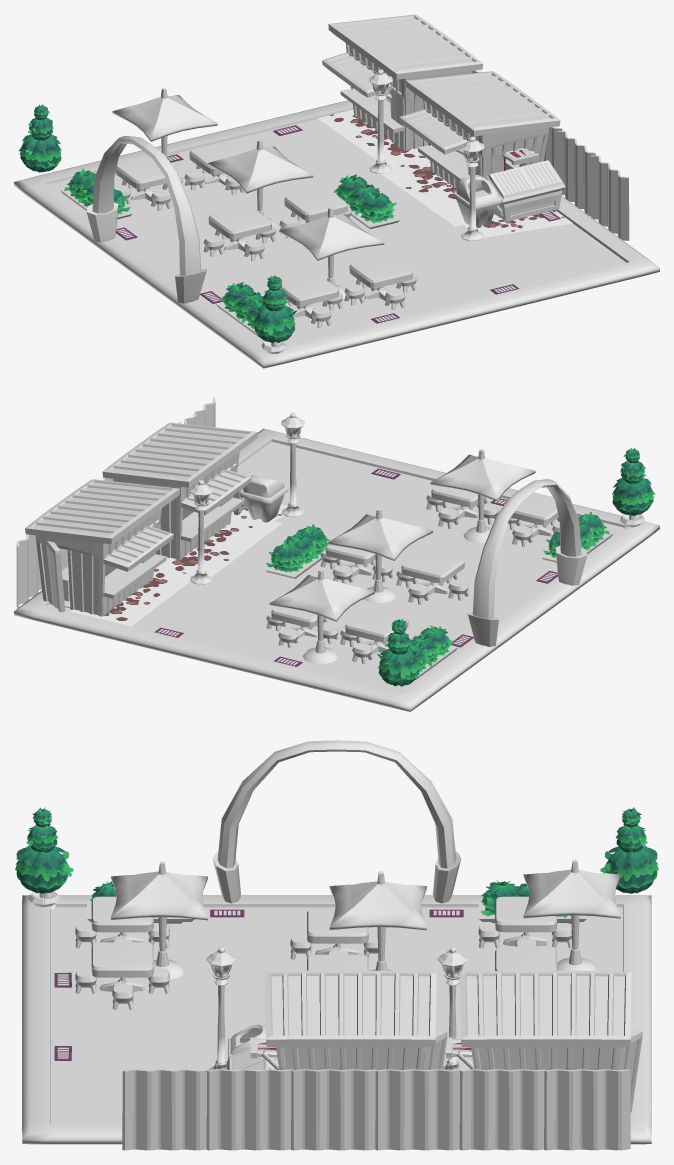
The model's file is Model_Canteen.fbx.
The picture shows the model from 3 angles, top to bottom: view 1: azimuth 30°, elevation 25°; view 2: azimuth 150°, elevation 25°; view 3: azimuth 270°, elevation 25°; orthographic projection. The views are drawn at different scales.
Visible parts, largest first — view 1: Plane.017, Cylinder.018, TEX_DEKOR.004, Cube.040, Plane.008, Sphere.006, Cube.007, Cylinder.008, Cylinder.007, Cylinder.010, Cylinder.006, Cylinder.004 (+9 smaller); view 2: Plane.017, Cylinder.018, Cube.040, TEX_DEKOR.004, Sphere.006, Cylinder.010, Cylinder.007, Cylinder.008, Cylinder.004, Cube.038, Cube.019, Cube.037 (+9 smaller); view 3: Plane.017, Plane.008, Cylinder.018, Cube.040, Sphere.006, Cylinder.010, Cylinder.008, Cylinder.007, Cylinder.006, Cylinder.005, Cube.019, Cylinder.004 (+8 smaller).
Boxes of the visible parts, <box> form: Plane.017: <box>14,100,659,368</box>; Cylinder.018: <box>322,14,560,188</box>; TEX_DEKOR.004: <box>318,100,572,237</box>; Cube.040: <box>86,136,206,303</box>; Plane.008: <box>471,70,629,240</box>; Sphere.006: <box>18,104,296,343</box>; Cube.007: <box>485,160,565,223</box>; Cylinder.008: <box>279,207,384,299</box>; Cylinder.007: <box>208,140,313,228</box>; Cylinder.010: <box>112,88,217,176</box>; Cylinder.006: <box>344,254,417,309</box>; Cylinder.004: <box>203,205,276,260</box>; Plane.017: <box>14,428,659,711</box>; Cylinder.018: <box>25,422,257,616</box>; Cube.040: <box>467,479,587,646</box>; TEX_DEKOR.004: <box>57,504,287,626</box>; Sphere.006: <box>377,448,655,686</box>; Cylinder.010: <box>269,569,374,663</box>; Cylinder.007: <box>327,509,432,603</box>; Cylinder.008: <box>430,449,535,543</box>; Cylinder.004: <box>396,549,468,604</box>; Cube.038: <box>409,512,609,672</box>; Cube.019: <box>189,412,304,584</box>; Cube.037: <box>265,524,329,578</box>; Plane.017: <box>22,895,651,1144</box>; Plane.008: <box>122,1069,630,1150</box>; Cylinder.018: <box>250,970,642,1112</box>; Cube.040: <box>212,740,461,903</box>; Sphere.006: <box>15,807,658,893</box>; Cylinder.010: <box>523,859,620,970</box>; Cylinder.008: <box>111,861,207,979</box>; Cylinder.007: <box>329,871,426,970</box>; Cylinder.006: <box>75,942,169,1009</box>; Cylinder.005: <box>478,896,572,948</box>; Cube.019: <box>206,946,467,1070</box>; Cylinder.004: <box>290,908,385,959</box>.
Size of the model in its own units: 2242 by 684 by 2402.
